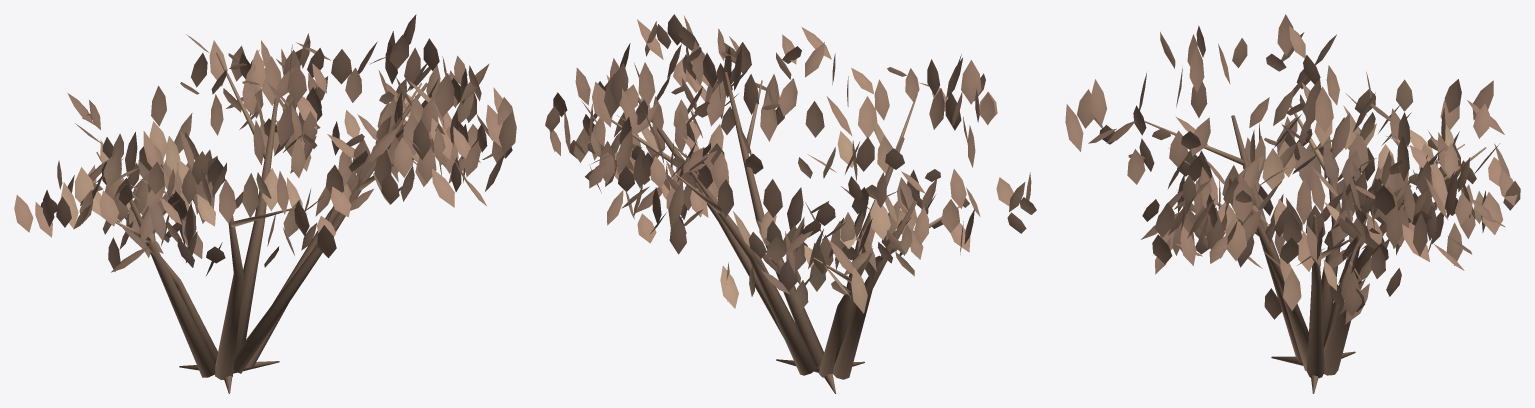
Rendered from bush_3d_05_copper.glb.
3 views of the same model, side by side, from view 1: azimuth 30°, elevation 25°; view 2: azimuth 150°, elevation 25°; view 3: azimuth 270°, elevation 25° (orthographic). The views are drawn at different scales.
Visible parts, largest first — view 1: bush_3d_05_copper_foliage, bush_3d_05_copper_wood; view 2: bush_3d_05_copper_foliage, bush_3d_05_copper_wood; view 3: bush_3d_05_copper_foliage, bush_3d_05_copper_wood.
Part boxes in pixels (left/top/right/bottom): bush_3d_05_copper_foliage: left=14, top=14, right=516, bottom=275; bush_3d_05_copper_wood: left=96, top=52, right=428, bottom=393; bush_3d_05_copper_foliage: left=545, top=14, right=1036, bottom=313; bush_3d_05_copper_wood: left=611, top=72, right=959, bottom=393; bush_3d_05_copper_foliage: left=1065, top=14, right=1520, bottom=324; bush_3d_05_copper_wood: left=1145, top=105, right=1486, bottom=393.
Bounding box in the file's own units: 2.76 × 1.62 × 2.2.
